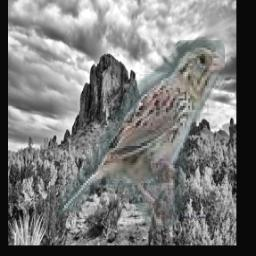Sparrow: (59, 40, 226, 226)
